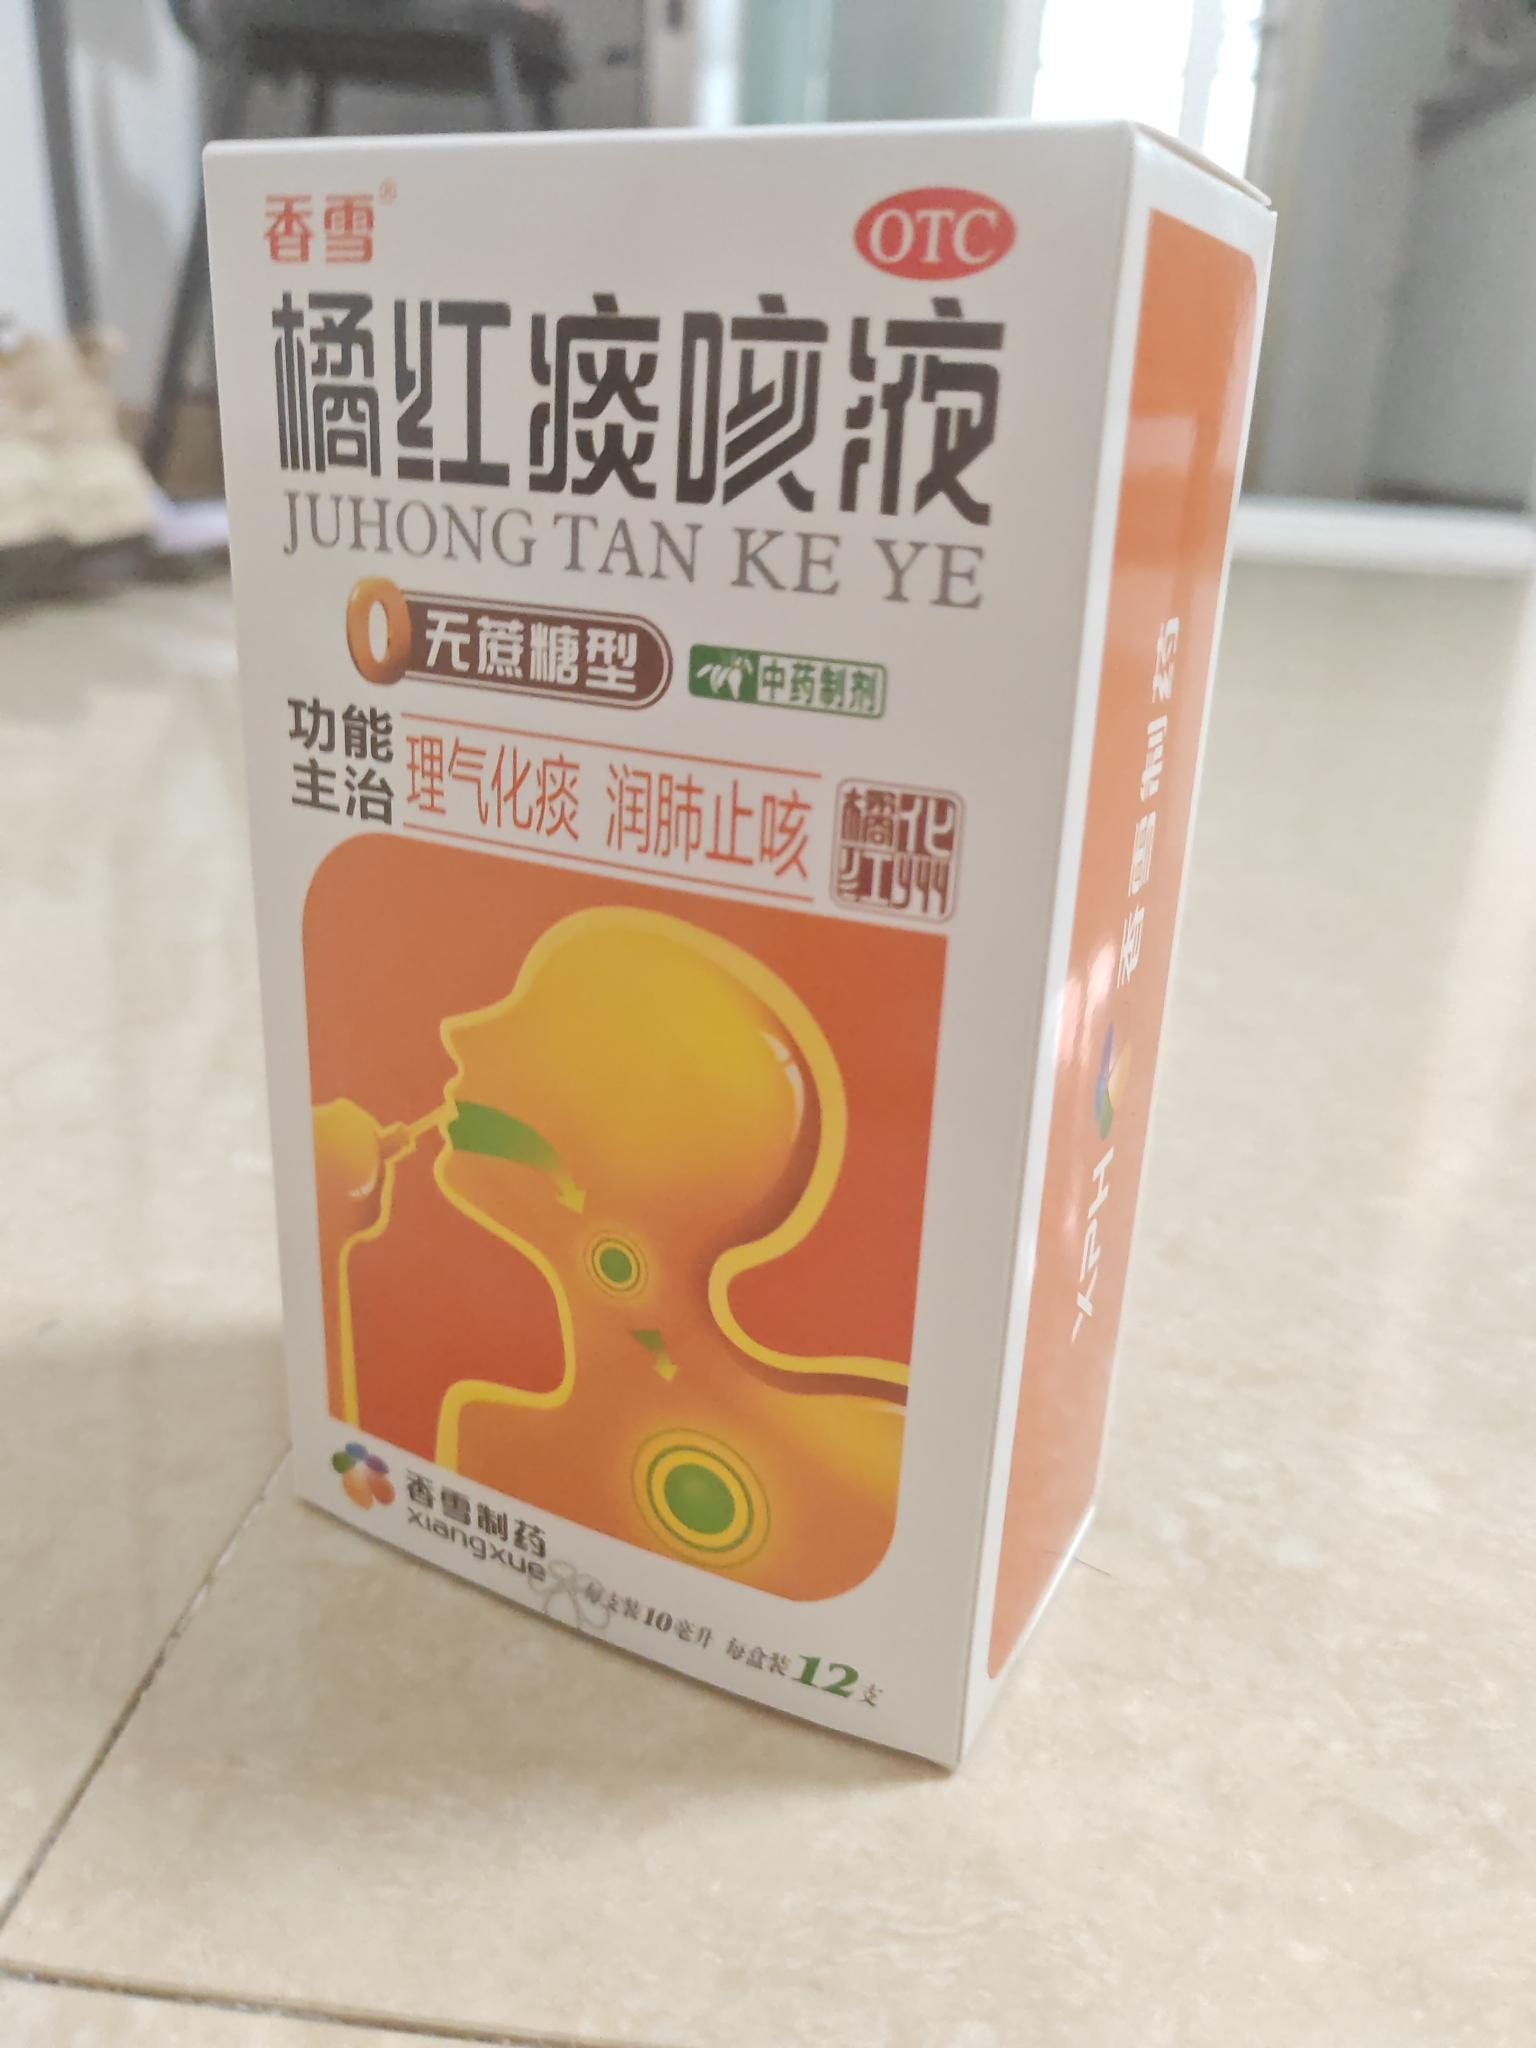Medicine1: (174, 105, 1315, 1811)
